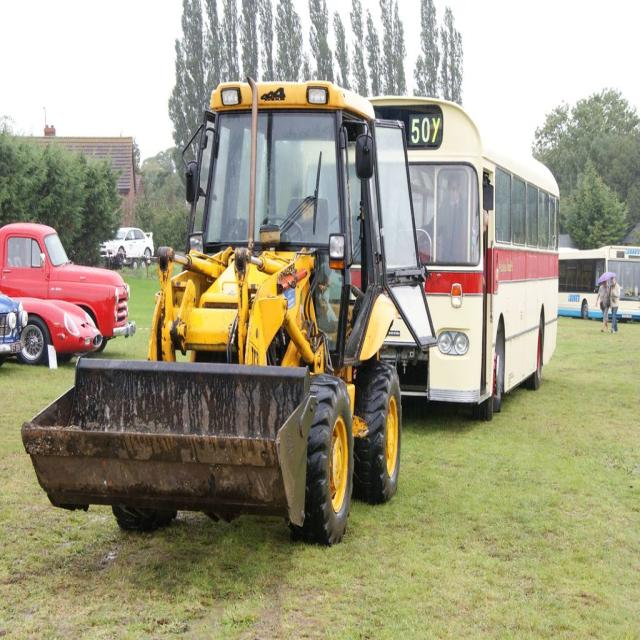Buses: (426, 96, 560, 436)
Passenger Car: (1, 220, 132, 357)
